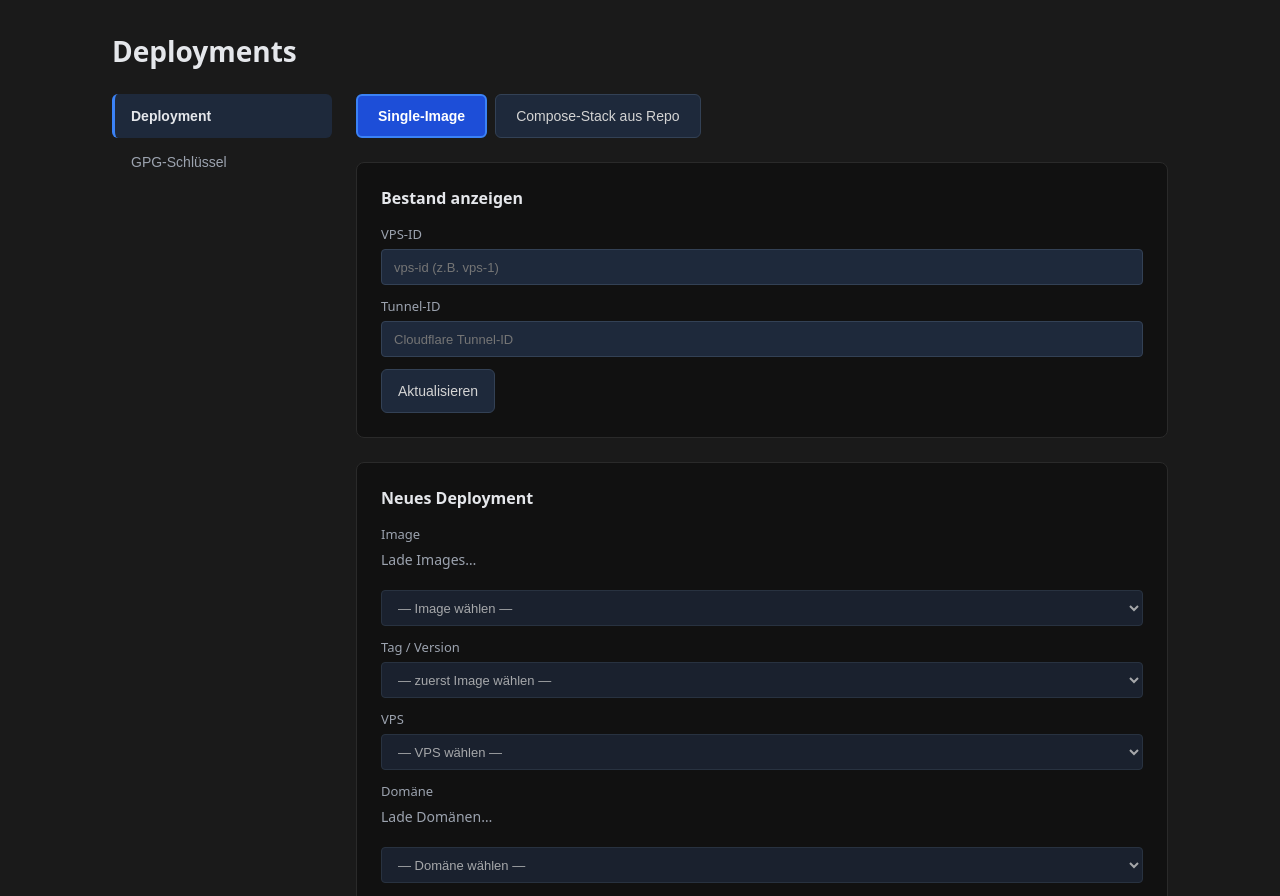
Test case: DeploymentsView — Bereichs-Untermenü Deployment/GPG-Schlüssel (F-087/S-374) › AC3: "GPG-Schlüssel"-Ansicht zeigt einen Erklärungstext (Dropdown/Aktionen s. DeploymentsView.gpgKeysSubview.test.jsx)
Click the button "GPG-Schlüssel" at (222, 162), box [112,140,332,184]
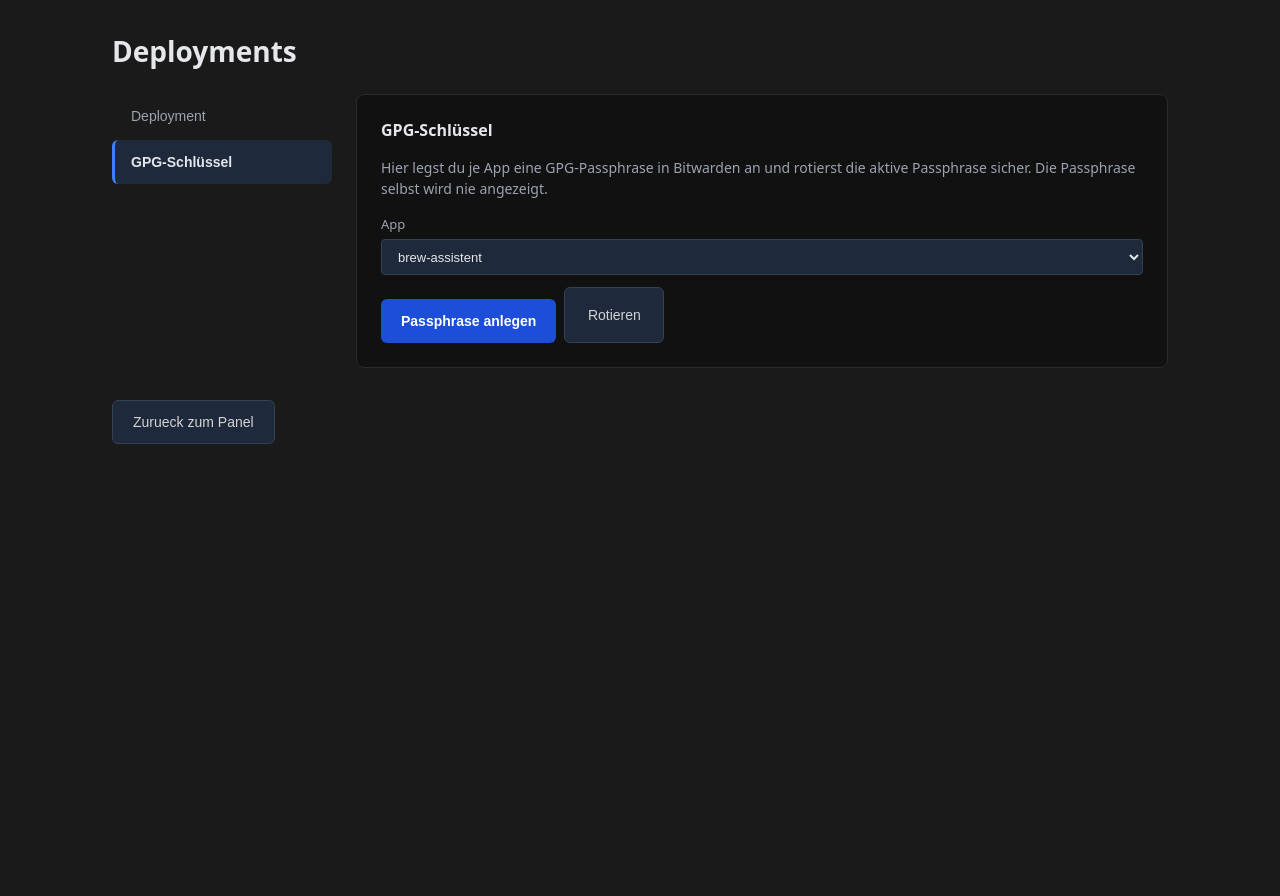
Result: the element named "GPG-Schlüssel" is shown at [356,94,1168,368]
